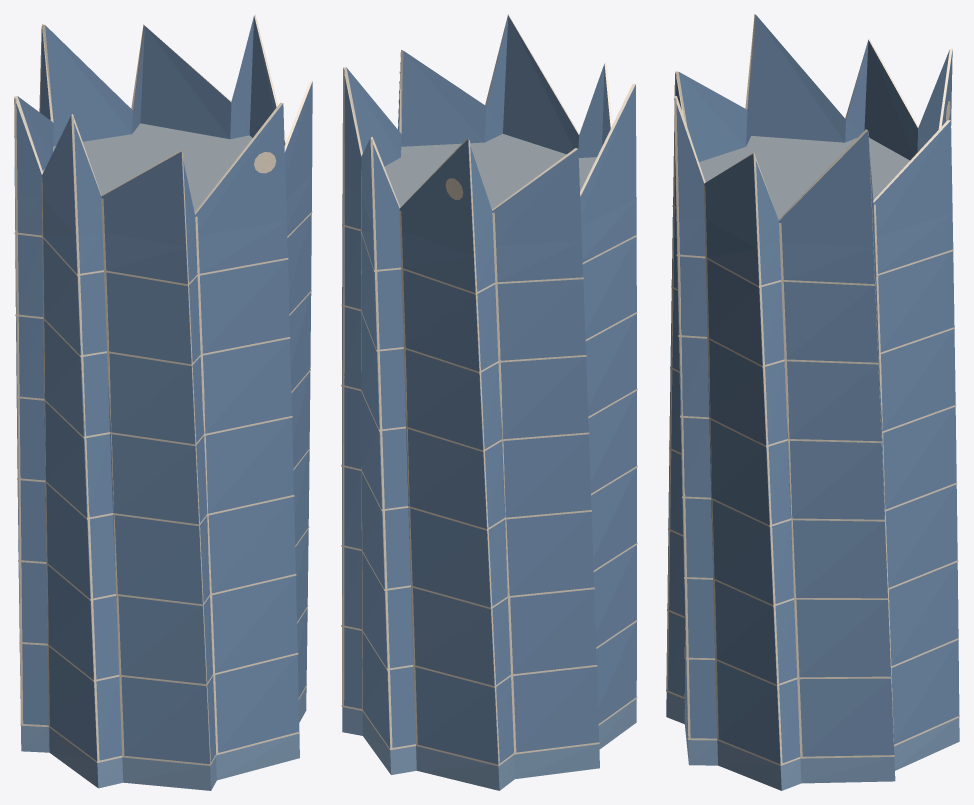
File: sat-frost-tower.glb
The picture shows the model from 3 angles, left to right: view 1: azimuth 30°, elevation 25°; view 2: azimuth 150°, elevation 25°; view 3: azimuth 270°, elevation 25°; orthographic projection. The views are drawn at different scales.
Visible parts, largest first — view 1: Frost Tower; view 2: Frost Tower; view 3: Frost Tower.
Part boxes in pixels (bbox=[...]): Frost Tower: bbox=[14, 14, 312, 790]; Frost Tower: bbox=[341, 14, 637, 790]; Frost Tower: bbox=[666, 14, 959, 790].
Bounding box in the file's own units: 48.99 × 122 × 49.39.
